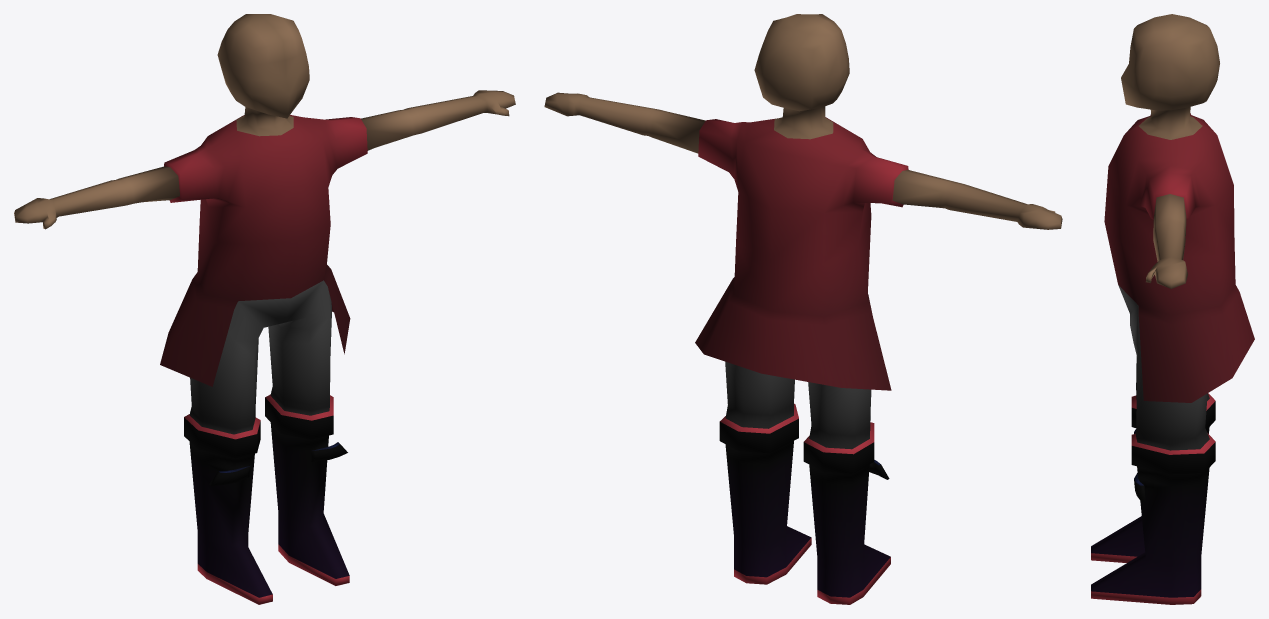
File: client3.fbx
3 renders of one model, left to right at view 1: azimuth 30°, elevation 25°; view 2: azimuth 150°, elevation 25°; view 3: azimuth 270°, elevation 25°, orthographic. The views are drawn at different scales.
Parts seen in each view (by area): view 1: ClientNEW [vertex painted]; view 2: ClientNEW [vertex painted]; view 3: ClientNEW [vertex painted].
Boxes of the visible parts, box(x1,y1,x2,y2) form: ClientNEW [vertex painted]: box(14, 14, 515, 604); ClientNEW [vertex painted]: box(544, 14, 1062, 604); ClientNEW [vertex painted]: box(1091, 14, 1254, 604).
Size of the model in its own units: 141 by 147 by 39.26.
